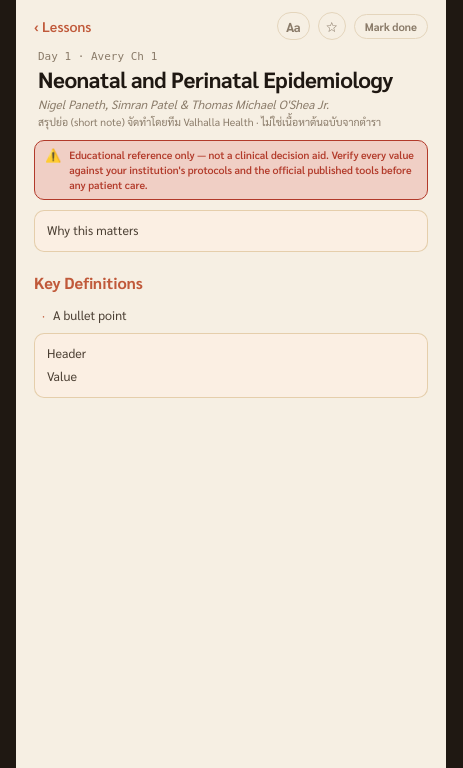
Test: <LessonDetail /> › toggles the bookmark button and persists to storage
Click the button named "Bookmark this lesson" at (332, 26), box [318, 12, 346, 40]
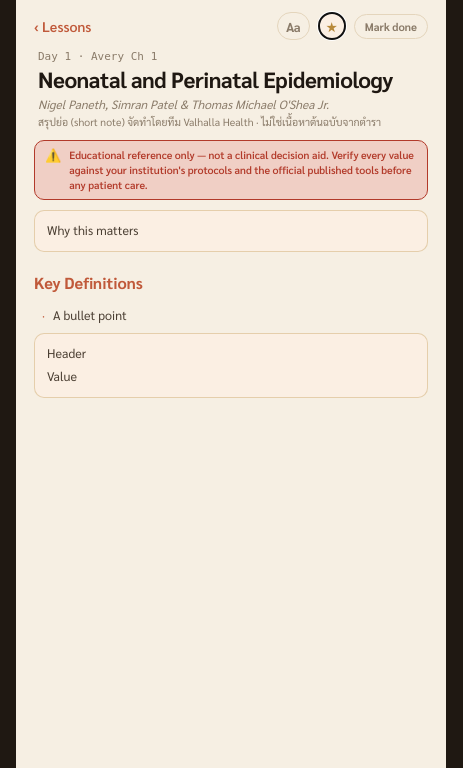
Expected: the button named "Remove bookmark" is shown
Click the button named "Remove bookmark" at (332, 26), box [318, 12, 346, 40]
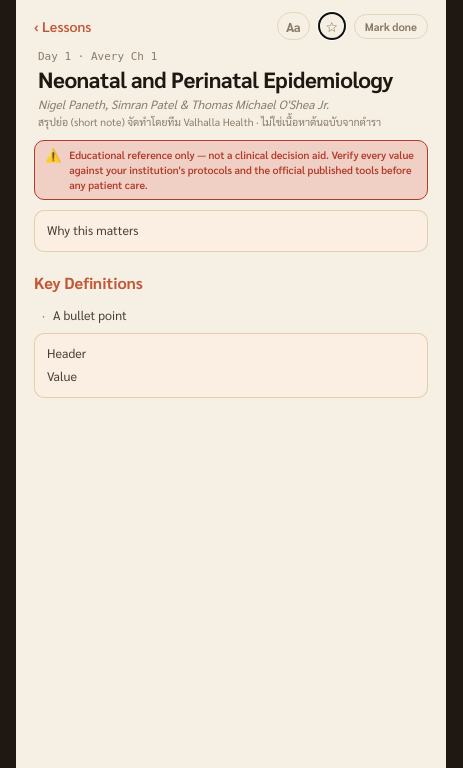
Expected: the button named "Bookmark this lesson" is shown, [318, 12, 346, 40]
